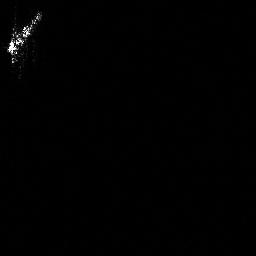ship: (2, 7, 46, 66)
